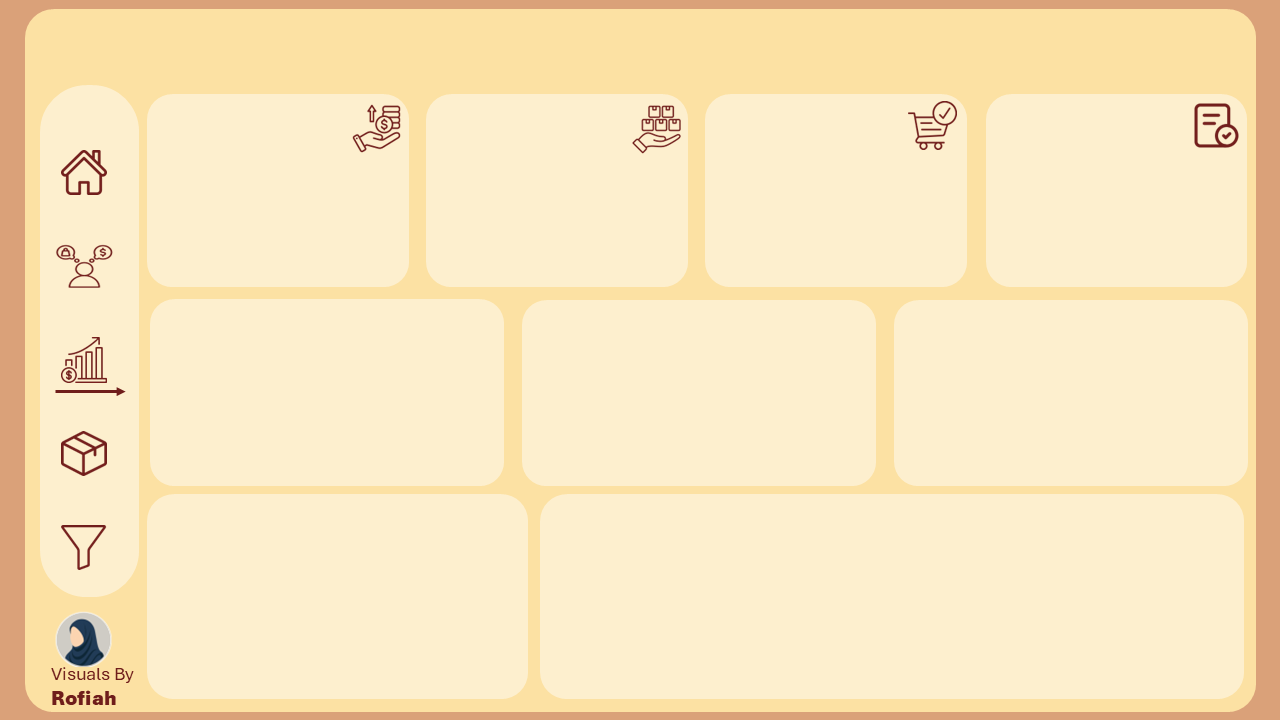

The page's visual inventory and layout, read from the dashboard file:
{"tool":"powerbi","page":{"name":"Home Page","canvas":[1280,720],"ordinal":0},"visuals":[{"type":"shape","box":[0,92.8,1280.5,627.8],"z":0},{"type":"shape","box":[29.8,450.6,54.7,58],"z":1000},{"type":"textbox","box":[16.6,122.6,543.3,293.2],"z":2000},{"type":"shape","box":[0,0,1280.5,106],"z":3000},{"type":"textbox","box":[222,33.1,877.9,39.8],"z":4000},{"type":"actionButton","box":[56.9,459.2,463.2,40.6],"z":5000},{"type":"actionButton","box":[97.5,528.3,542.5,58.9],"z":6000},{"type":"actionButton","box":[199.1,603.4,365.7,56.9],"z":7000},{"type":"shape","box":[89.4,528.4,54.7,58],"z":8000},{"type":"shape","box":[144.1,603,54.7,58],"z":9000},{"type":"image","box":[638.9,94.8,222,144.1],"z":10000,"group":"g1"},{"type":"image","box":[631.1,256.8,626.1,439],"z":10000},{"type":"image","box":[811.1,94.8,189.1,144.1],"z":11000,"group":"g1"},{"type":"shape","box":[631.1,258.4,626.1,437.3],"z":11000},{"type":"group","id":"g1","title":"Group 1","box":[638.9,83.2,639.7,155.7],"z":12000},{"type":"image","box":[950.4,94.8,189.1,144.1],"z":12000,"group":"g1"},{"type":"image","box":[1089.7,83.2,188.8,155.7],"z":13000,"group":"g1"},{"type":"textbox","box":[798.4,366.1,299.8,294.9],"z":13000},{"type":"textbox","box":[798.4,366.1,306.4,49.7],"z":14000}]}

Visuals, with their boxes in screenshot pixels (x1, y1, x2, y2), scaled from the page's 1280x720 canvas onto the 1280x720 screenshot:
shape: BBox(0, 93, 1279, 719)
shape: BBox(30, 451, 84, 509)
textbox: BBox(17, 123, 560, 416)
shape: BBox(0, 0, 1279, 106)
textbox: BBox(222, 33, 1100, 73)
actionButton: BBox(57, 459, 520, 500)
actionButton: BBox(98, 528, 640, 587)
actionButton: BBox(199, 603, 565, 660)
shape: BBox(89, 528, 144, 586)
shape: BBox(144, 603, 199, 661)
image: BBox(639, 95, 861, 239)
image: BBox(631, 257, 1257, 696)
image: BBox(811, 95, 1000, 239)
shape: BBox(631, 258, 1257, 696)
"Group 1" group: BBox(639, 83, 1279, 239)
image: BBox(950, 95, 1140, 239)
image: BBox(1090, 83, 1278, 239)
textbox: BBox(798, 366, 1098, 661)
textbox: BBox(798, 366, 1105, 416)
